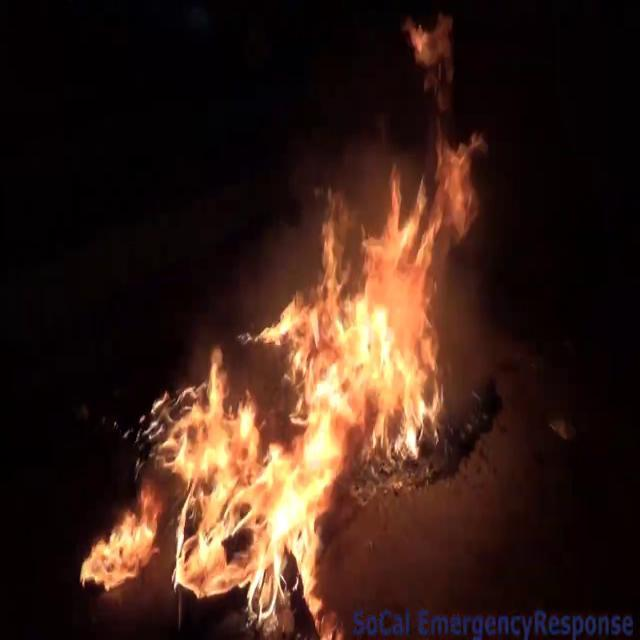Fire: (72, 106, 498, 627)
